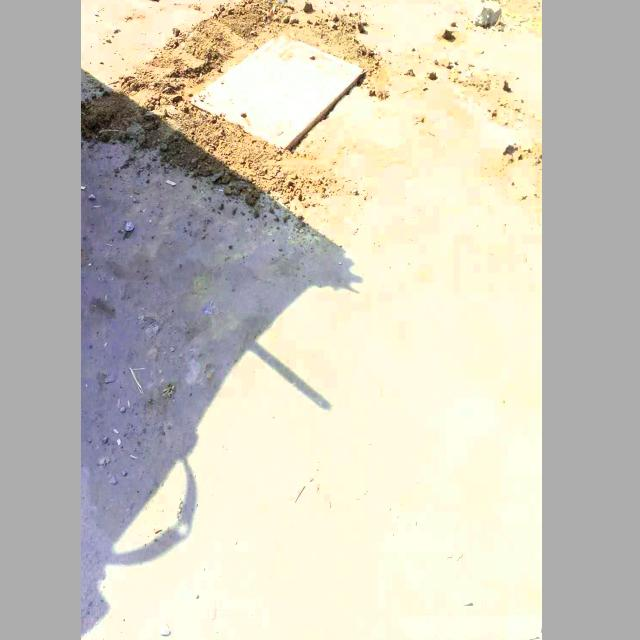good: (192, 34, 365, 146)
